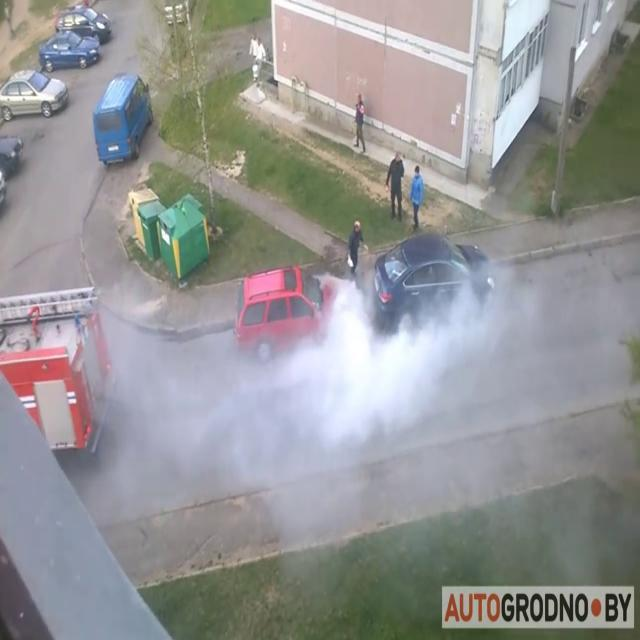Smoke: (43, 227, 637, 457)
